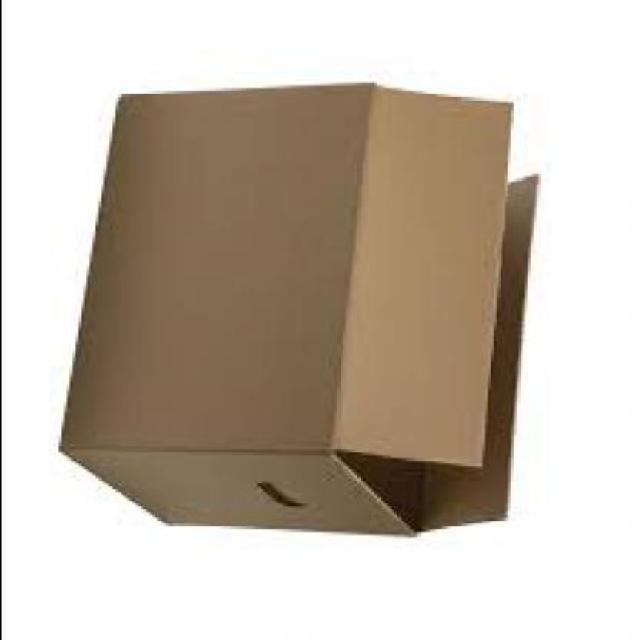CARDBOARD: (59, 85, 535, 541)
